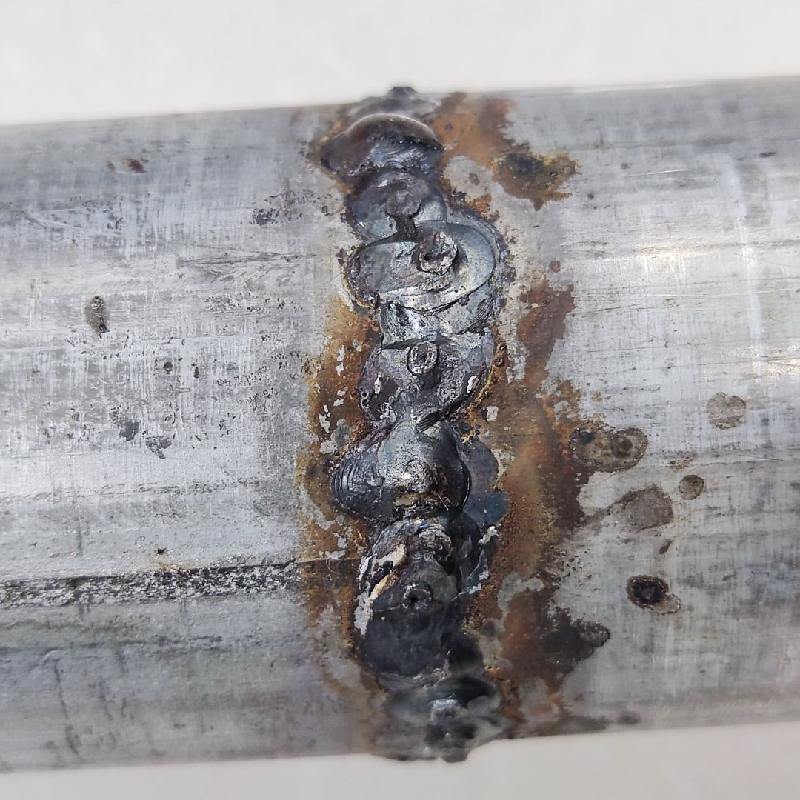Weld: (313, 115, 456, 175)
wrong_size: (333, 177, 498, 755)
